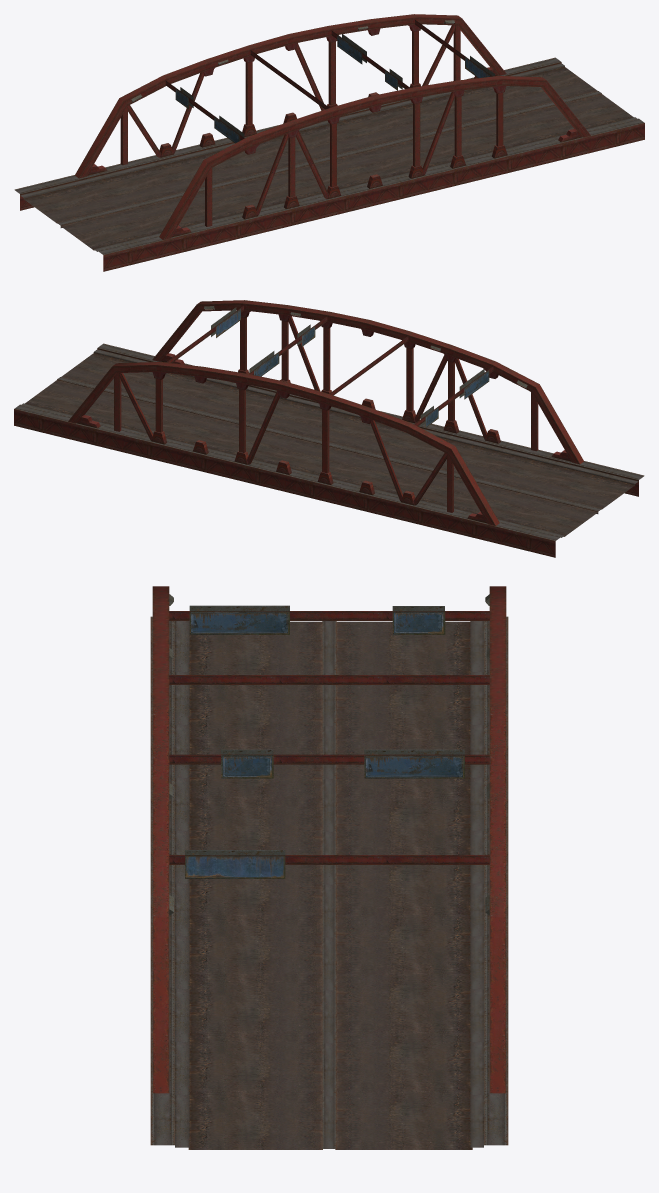
File: Building_TrackBridge004_lod2.glb
The picture shows the model from 3 angles, top to bottom: view 1: azimuth 30°, elevation 25°; view 2: azimuth 150°, elevation 25°; view 3: azimuth 270°, elevation 25°; orthographic projection. The views are drawn at different scales.
Parts seen in each view (by area): view 1: track_bridge004_lod2; view 2: track_bridge004_lod2; view 3: track_bridge004_lod2.
Boxes of the visible parts, box(x1,y1,x2,y2) form: track_bridge004_lod2: box(14, 14, 644, 271); track_bridge004_lod2: box(14, 300, 644, 557); track_bridge004_lod2: box(150, 586, 508, 1149).
Size of the model in its own units: 102 by 19.01 by 29.15.
1 material, 1 textured.
